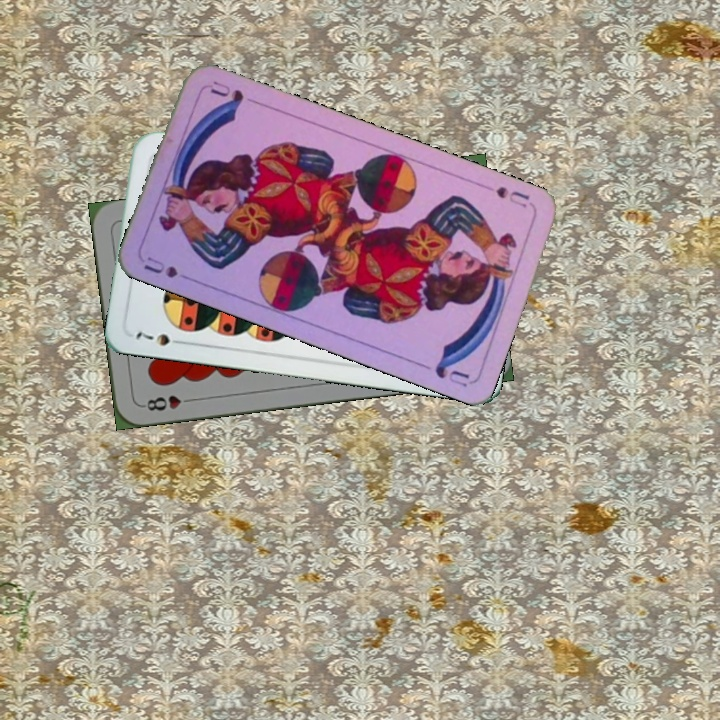H8: (138, 391, 197, 413)
S7: (132, 327, 188, 349)
SU: (139, 252, 197, 285), (491, 182, 536, 210)
